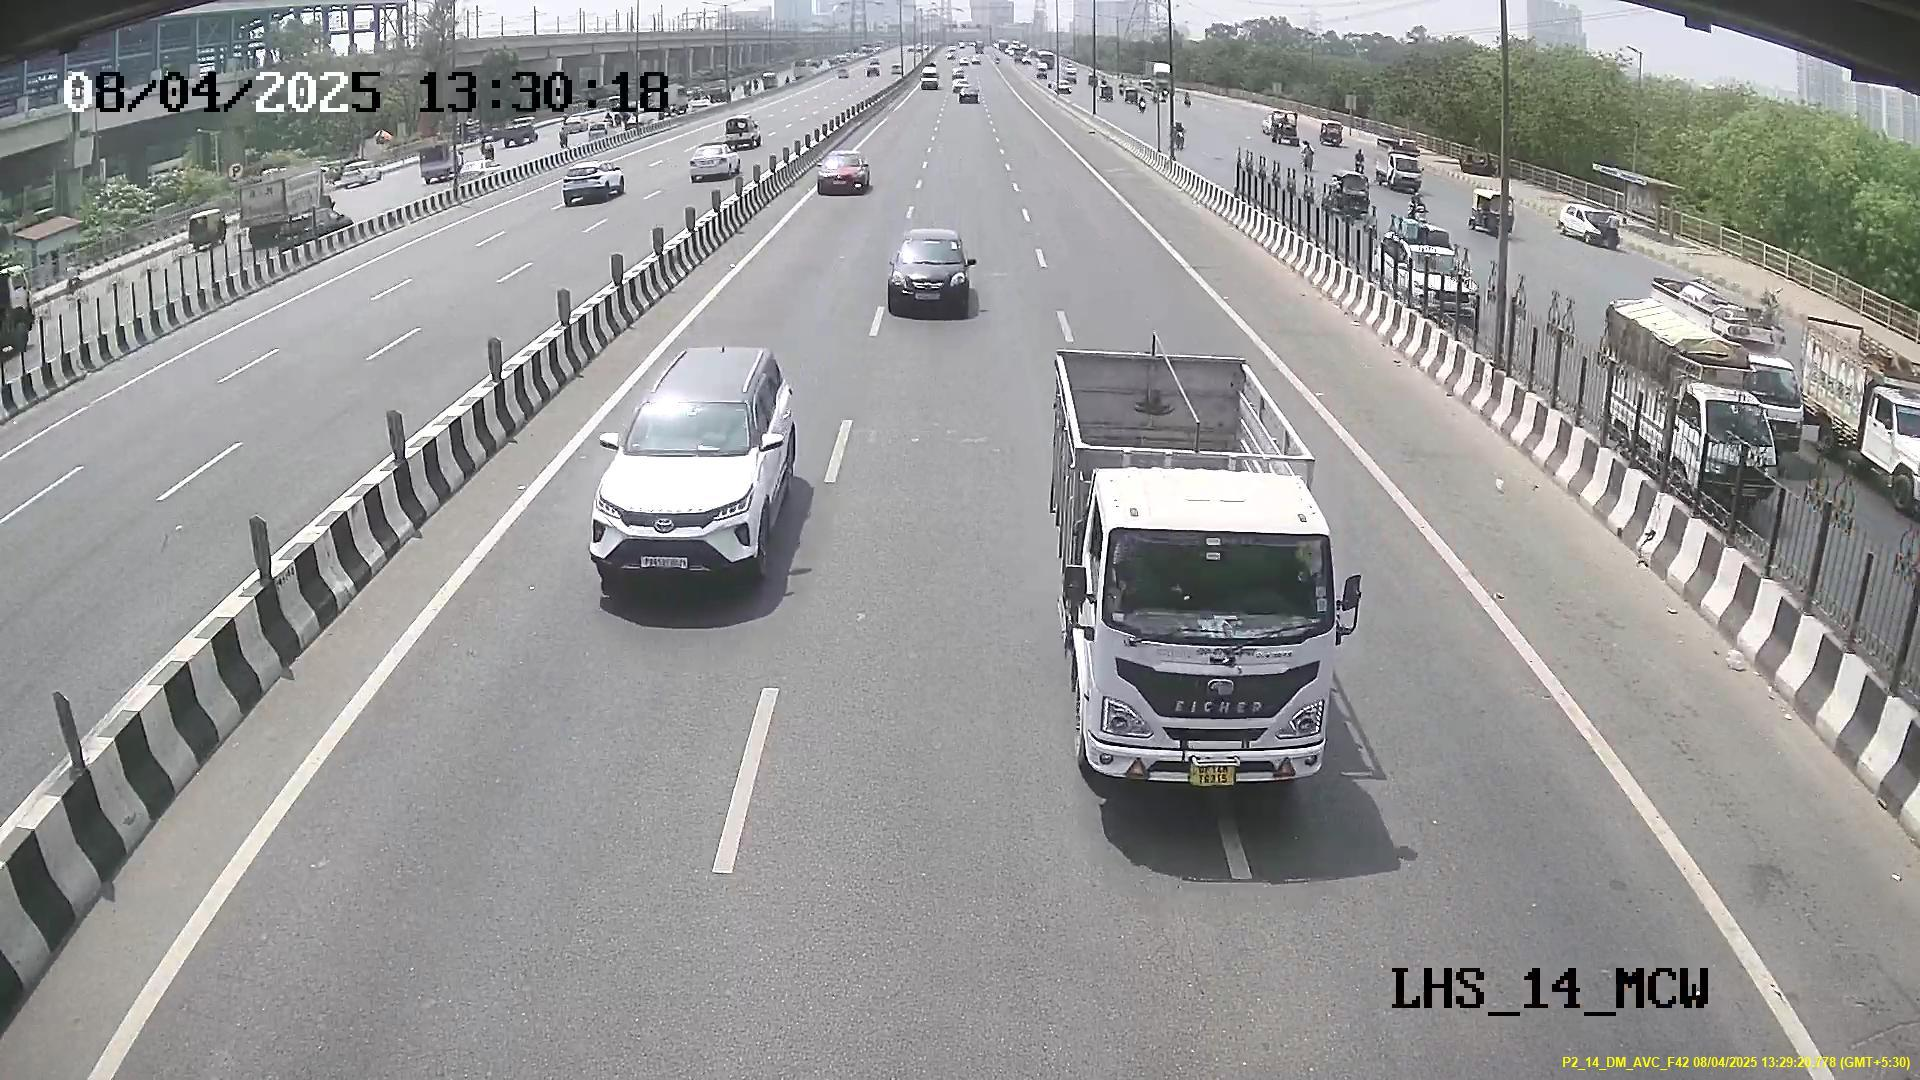car: (589, 381, 786, 595), (886, 232, 976, 318), (815, 149, 872, 199)
lcv: (1085, 487, 1337, 795)
